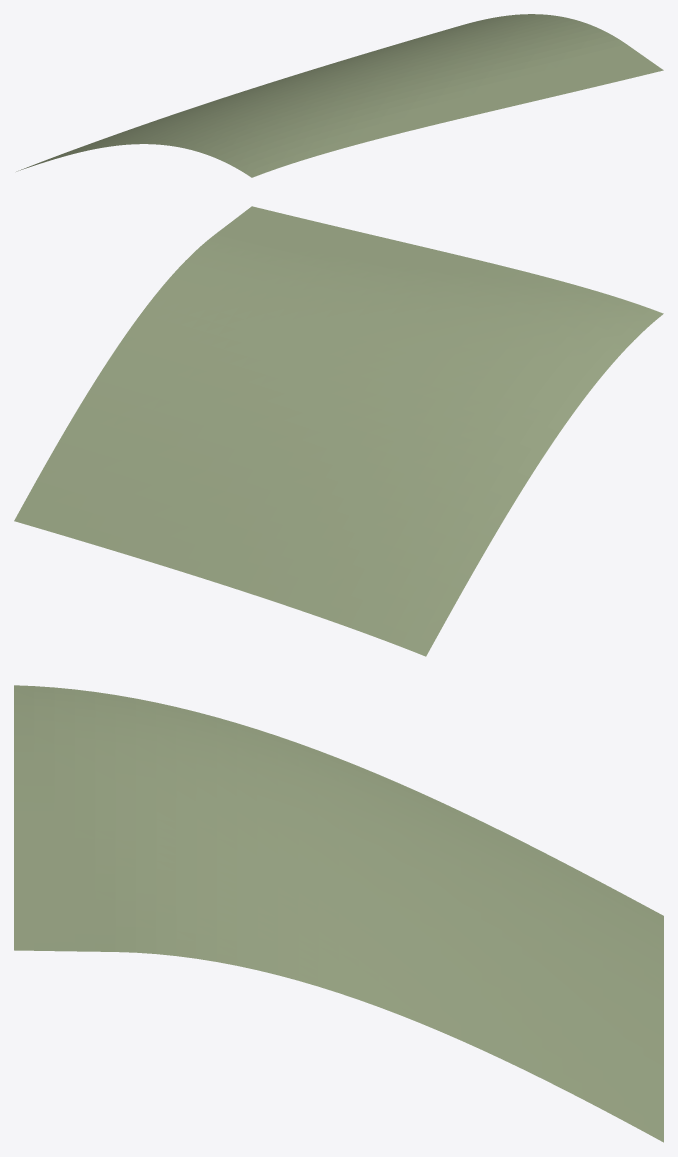
File: expanse-17-2.glb
3 views of the same model, one above another, from view 1: azimuth 30°, elevation 25°; view 2: azimuth 150°, elevation 25°; view 3: azimuth 270°, elevation 25° (orthographic). The views are drawn at different scales.
Parts seen in each view (by area): view 1: expanse-17-2; view 2: expanse-17-2; view 3: expanse-17-2.
Part boxes in pixels (x1,y1,x2,y2): expanse-17-2: [16, 14, 663, 177]; expanse-17-2: [14, 206, 663, 656]; expanse-17-2: [14, 685, 663, 1142].
Size of the model in its own units: 256 by 105 by 256.
